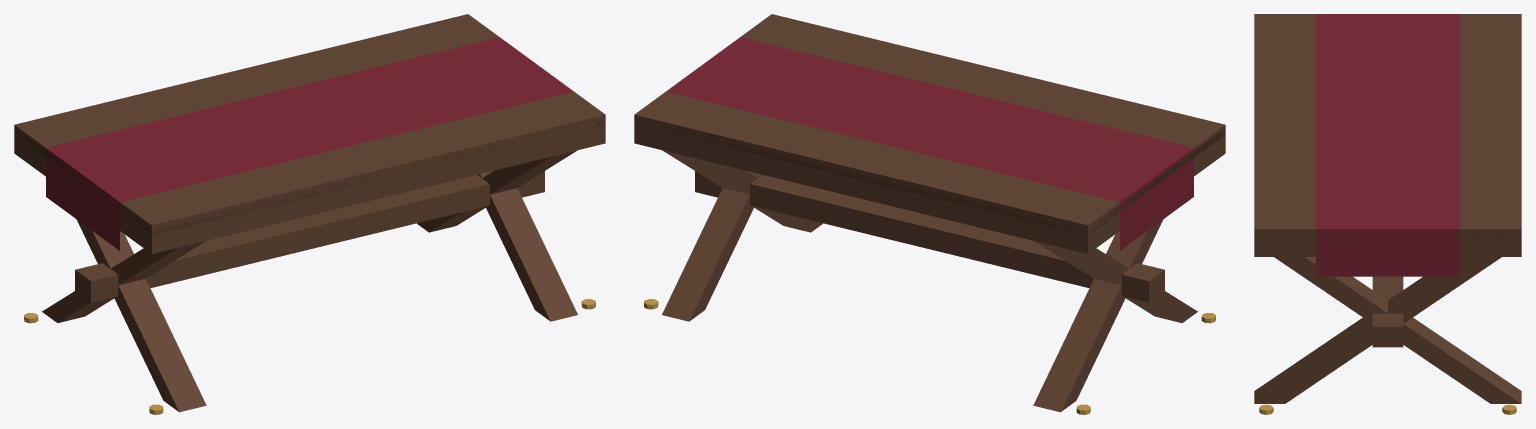
File: tableCrossCloth.glb
3 renders of one model, left to right at view 1: azimuth 30°, elevation 25°; view 2: azimuth 150°, elevation 25°; view 3: azimuth 270°, elevation 25°, orthographic. The views are drawn at different scales.
Visible parts, largest first — view 1: tableCrossCloth(Clone); view 2: tableCrossCloth(Clone); view 3: tableCrossCloth(Clone).
Boxes of the visible parts, x1,y1,x2,y2 form: tableCrossCloth(Clone): [14, 14, 605, 414]; tableCrossCloth(Clone): [634, 14, 1225, 414]; tableCrossCloth(Clone): [1254, 14, 1521, 414].
Bounding box in the file's own units: 0.8521 × 0.3474 × 0.4474.
